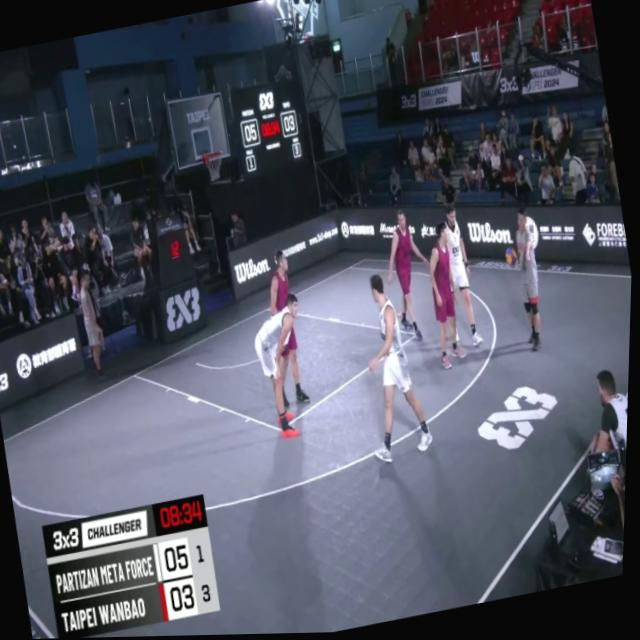ball: (502, 244, 521, 273)
hoop: (202, 147, 228, 185)
player: (345, 264, 443, 470), (246, 293, 322, 449), (251, 244, 319, 412), (379, 206, 443, 351), (420, 221, 476, 375), (434, 201, 489, 354)
